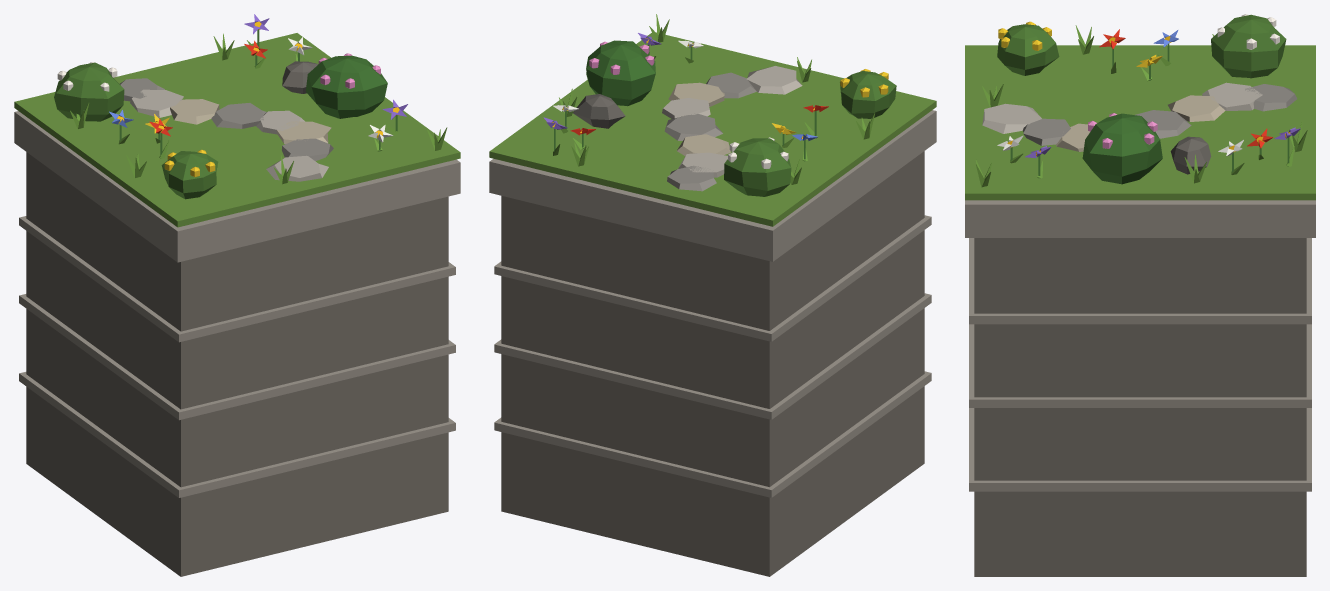
File: decor_stepping_stones.glb
The picture shows the model from 3 angles, left to right: view 1: azimuth 30°, elevation 25°; view 2: azimuth 150°, elevation 25°; view 3: azimuth 270°, elevation 25°; orthographic projection. The views are drawn at different scales.
Parts seen in each view (by area): view 1: decor_stepping_stones; view 2: decor_stepping_stones; view 3: decor_stepping_stones.
Boxes of the visible parts, left/top/right/bottom form: decor_stepping_stones: left=14, top=14, right=460, bottom=576; decor_stepping_stones: left=489, top=14, right=936, bottom=576; decor_stepping_stones: left=965, top=14, right=1315, bottom=576.
Size of the model in its own units: 3.8 by 5.27 by 3.8.
